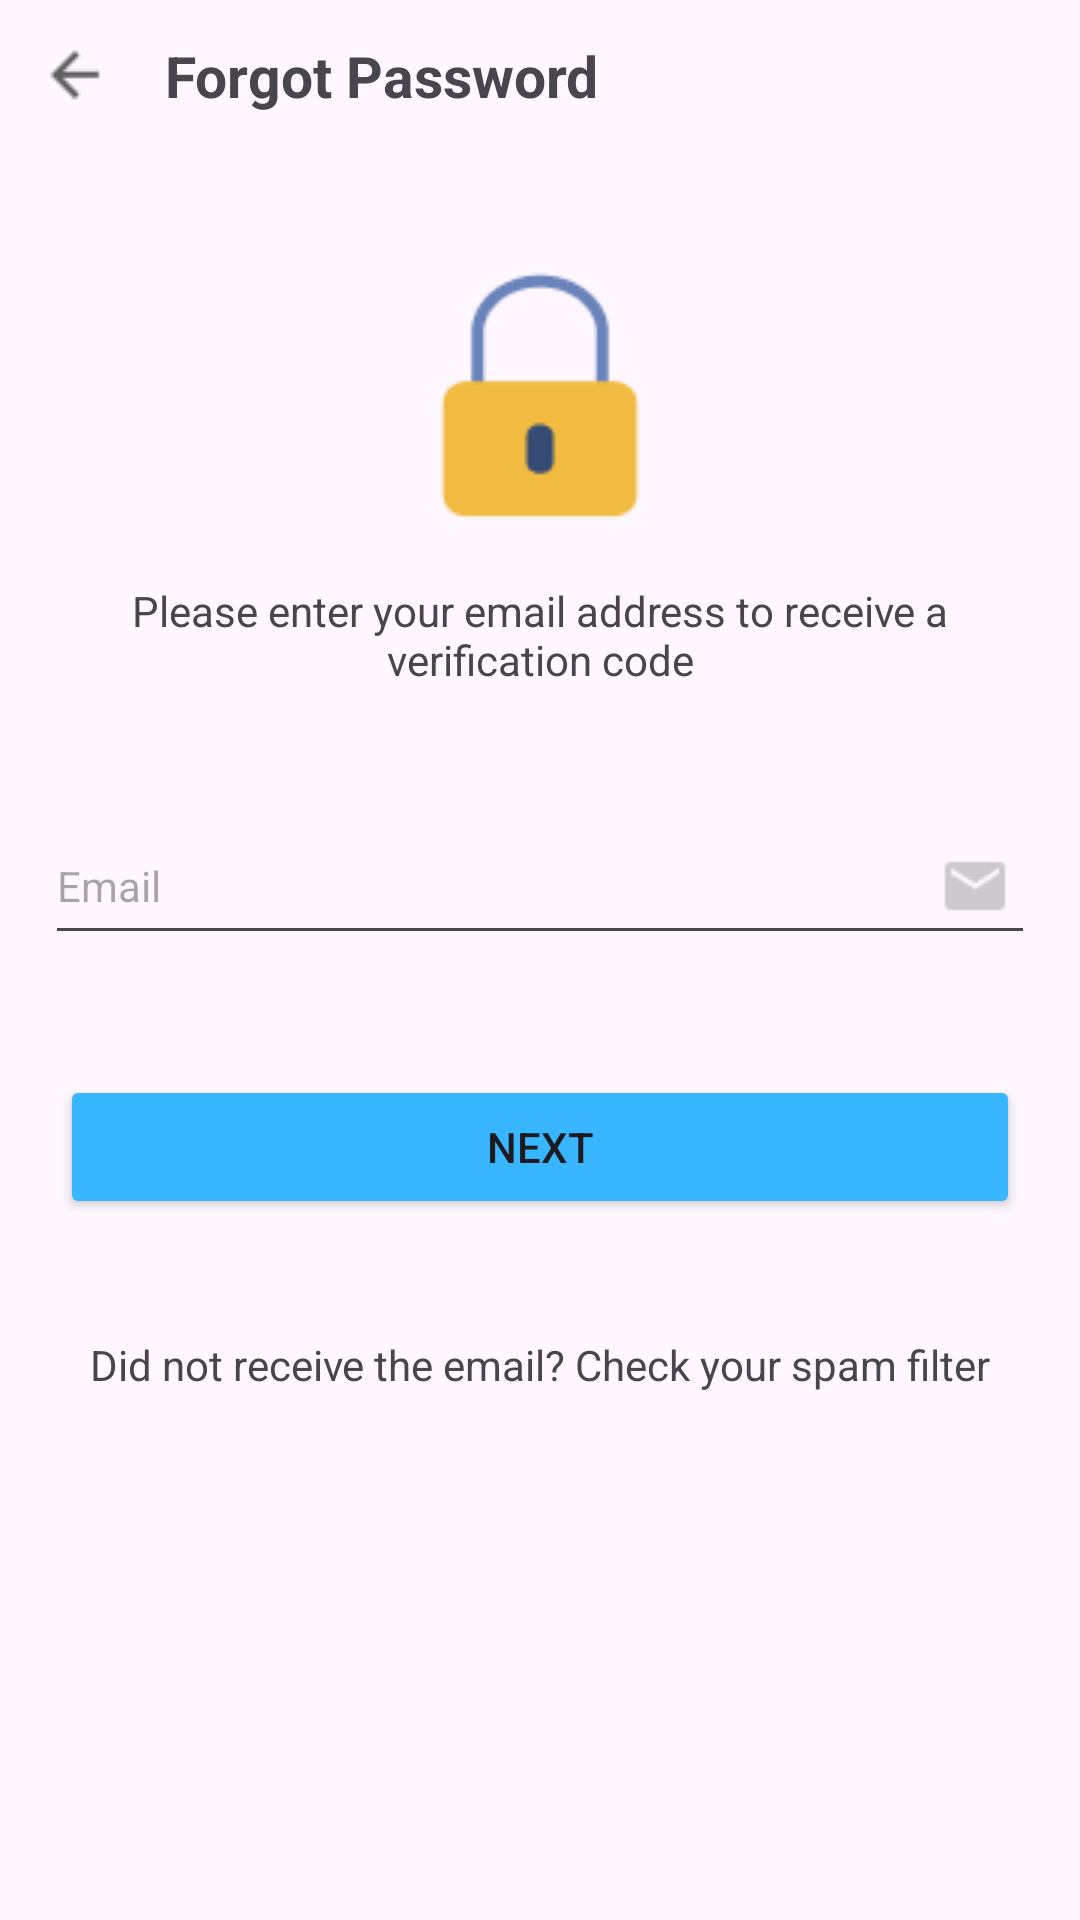

Named icons in this screenshot (1080x1920) and their bounding boxes, (x1, y1, x2, y2):
arrow left: (50, 50, 100, 100)
